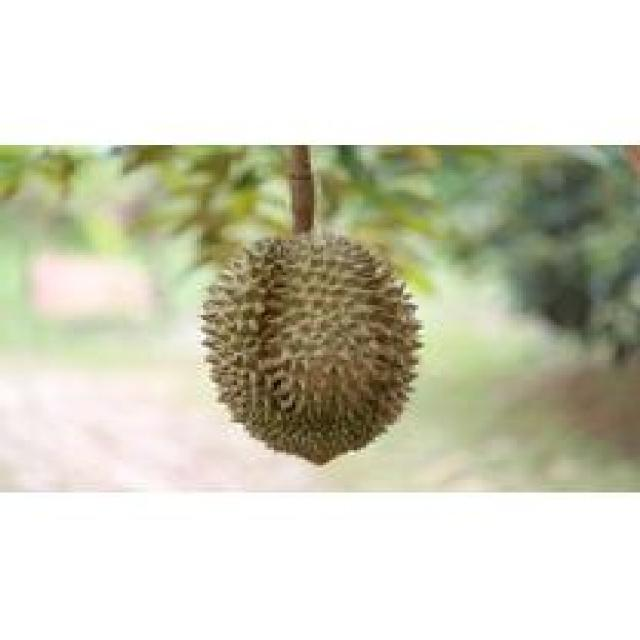fruit: (184, 218, 433, 470)
